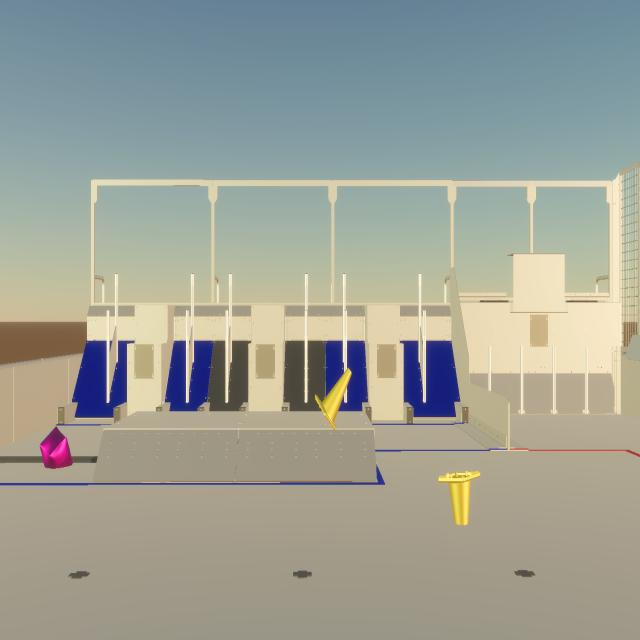frc_cone: (315, 368, 352, 430), (438, 471, 480, 525)
frc_cube: (40, 426, 72, 468)
